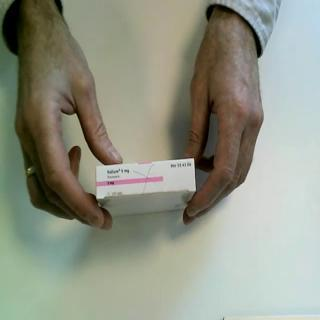valium5mg: (95, 156, 198, 221)
